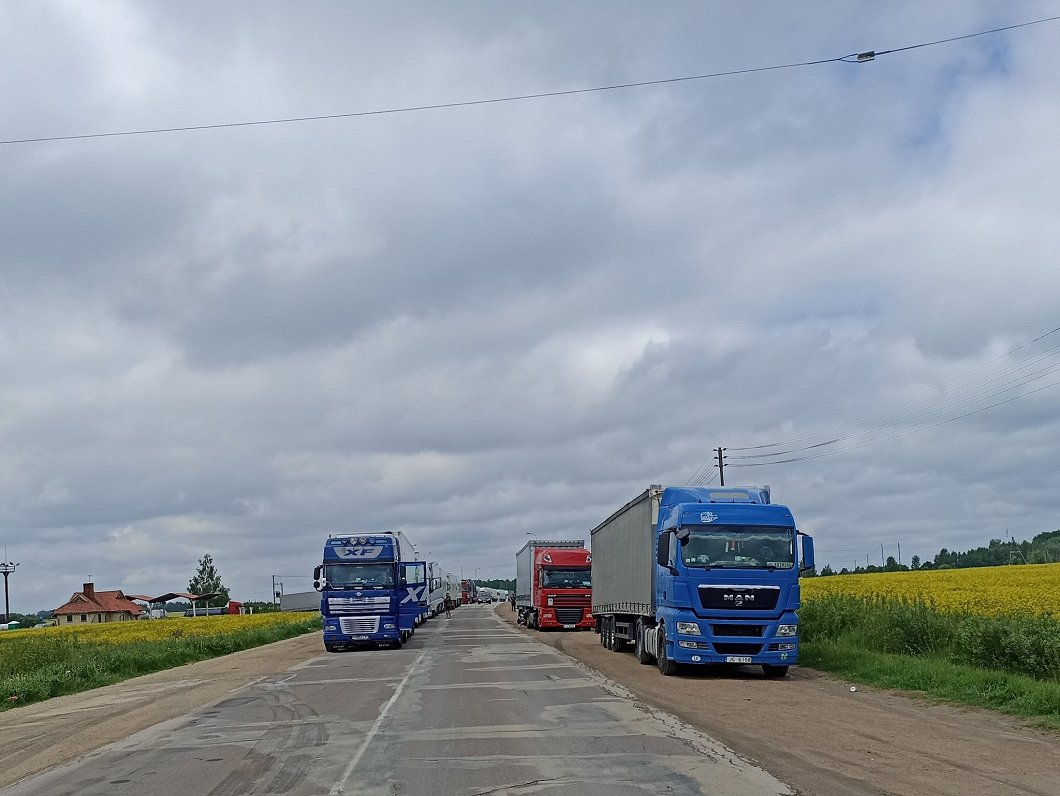plate: (724, 655, 755, 665), (349, 633, 371, 642), (561, 623, 578, 630)
truck: (587, 477, 808, 682), (318, 526, 420, 658), (512, 534, 602, 636)
